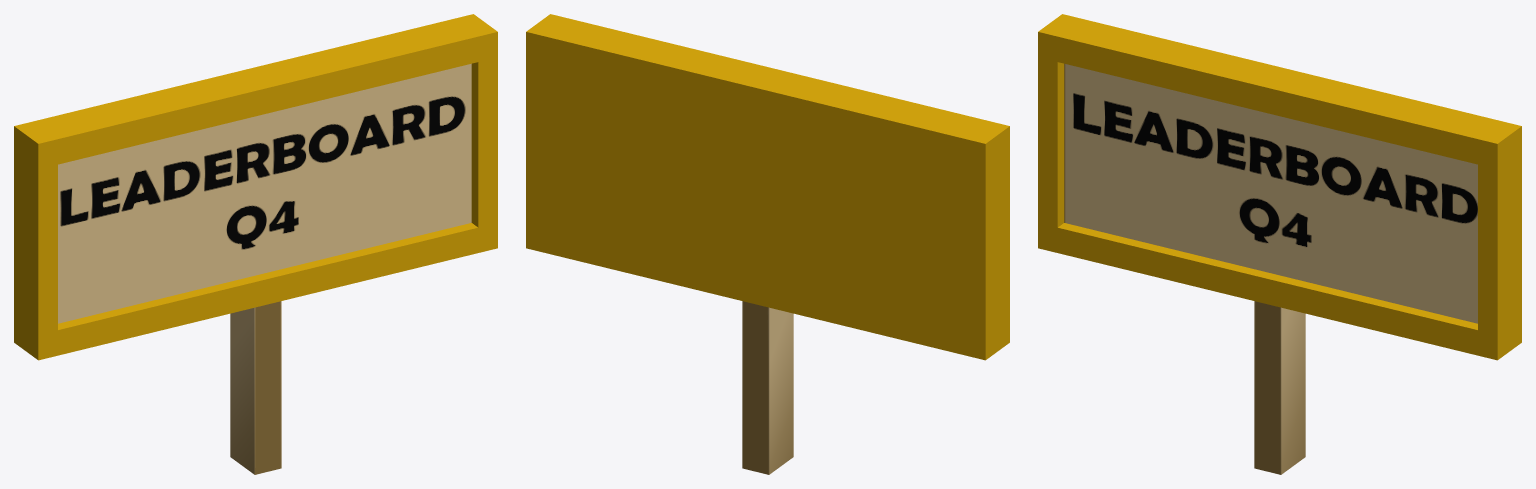
The model's file is signPost_lQ4.fbx.
The picture shows the model from 3 angles, left to right: view 1: azimuth 30°, elevation 25°; view 2: azimuth 150°, elevation 25°; view 3: azimuth 330°, elevation 25°; orthographic projection.
Visible parts, largest first — view 1: pCube3; view 2: pCube3; view 3: pCube3.
Part boxes in pixels (bbox=[...]): pCube3: bbox=[14, 14, 497, 474]; pCube3: bbox=[526, 14, 1009, 474]; pCube3: bbox=[1038, 14, 1521, 474].
Size of the model in its own units: 6.34 by 5.06 by 0.5821.
2 materials, 1 textured.
